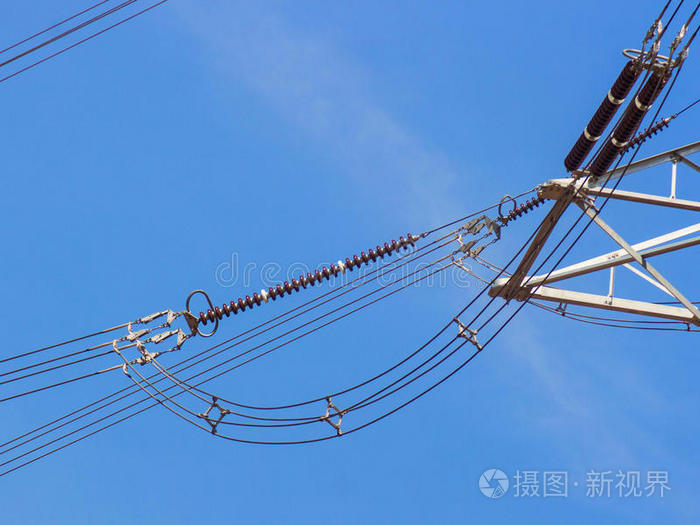insulator: (200, 233, 418, 328), (620, 117, 669, 157), (502, 192, 551, 226)
